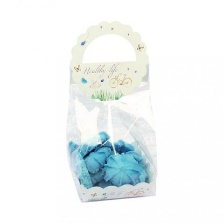snack: (59, 12, 167, 208)
